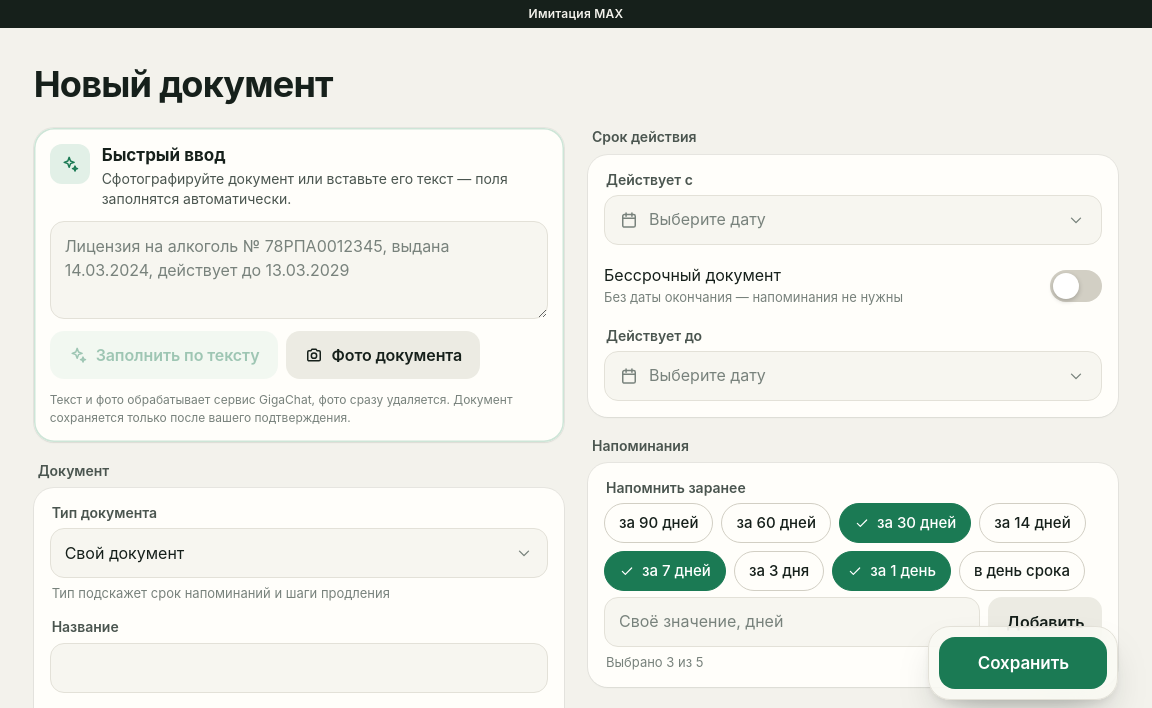
T-FE-DUP, T-FE-PAGE: форма документа › показывает ошибку поля, пришедшую от сервера
The image size is (1152, 708).
Type "Лицензия" into the field labelled "Название" at (299, 668), box top-left (51, 644), bottom-right (547, 692)
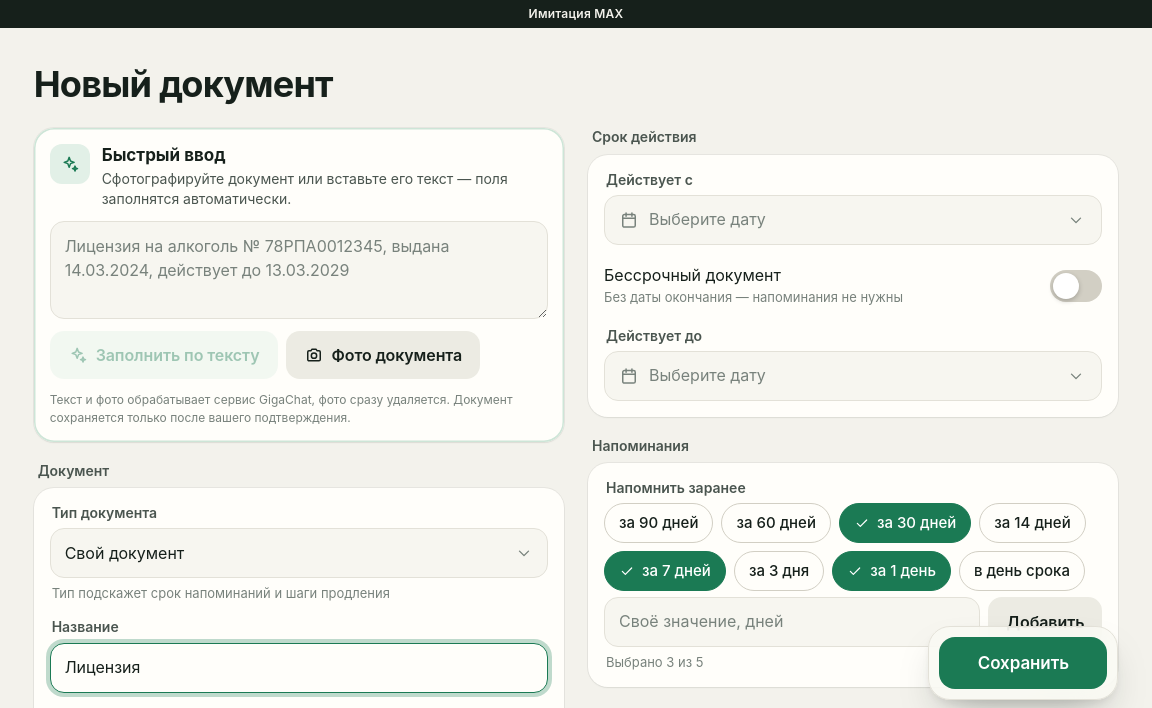
Click the button "Сохранить" at (1023, 663), box top-left (939, 637), bottom-right (1107, 689)
(page scrolled)
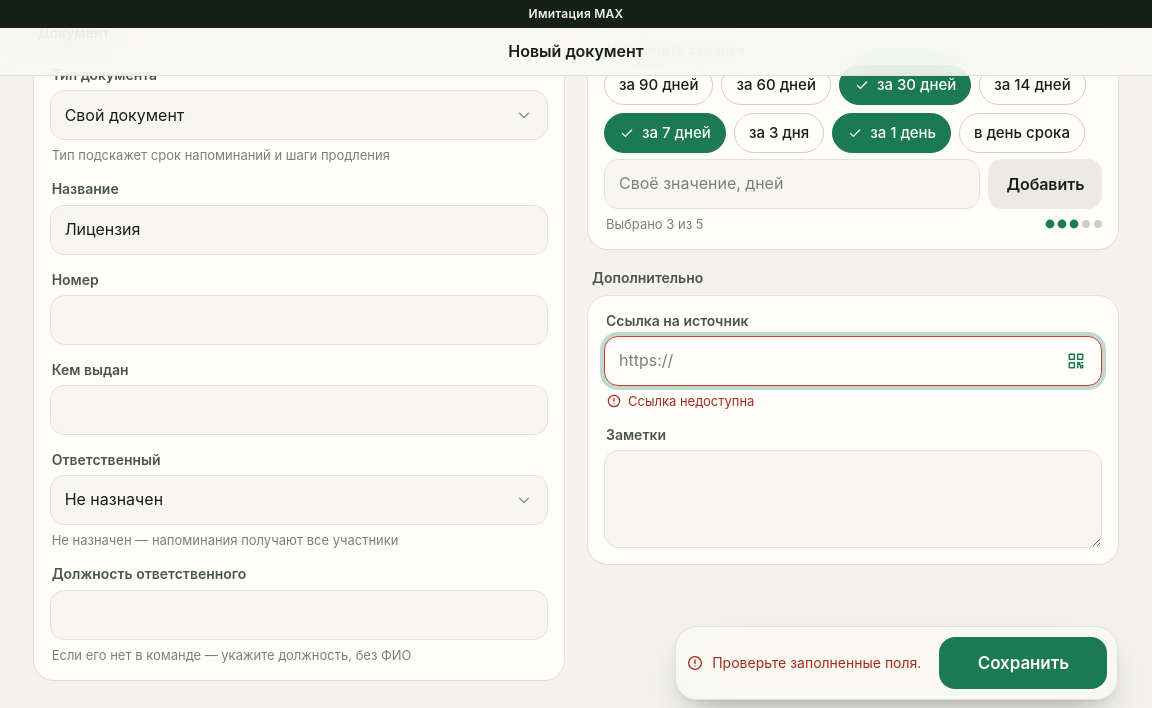
expect the text "Ссылка недоступна" is shown: met, box top-left (606, 393), bottom-right (754, 409)
